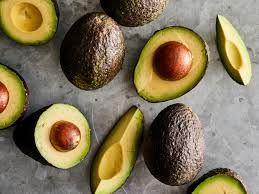aguacate: (54, 10, 128, 93), (134, 24, 210, 101), (142, 102, 209, 189)
